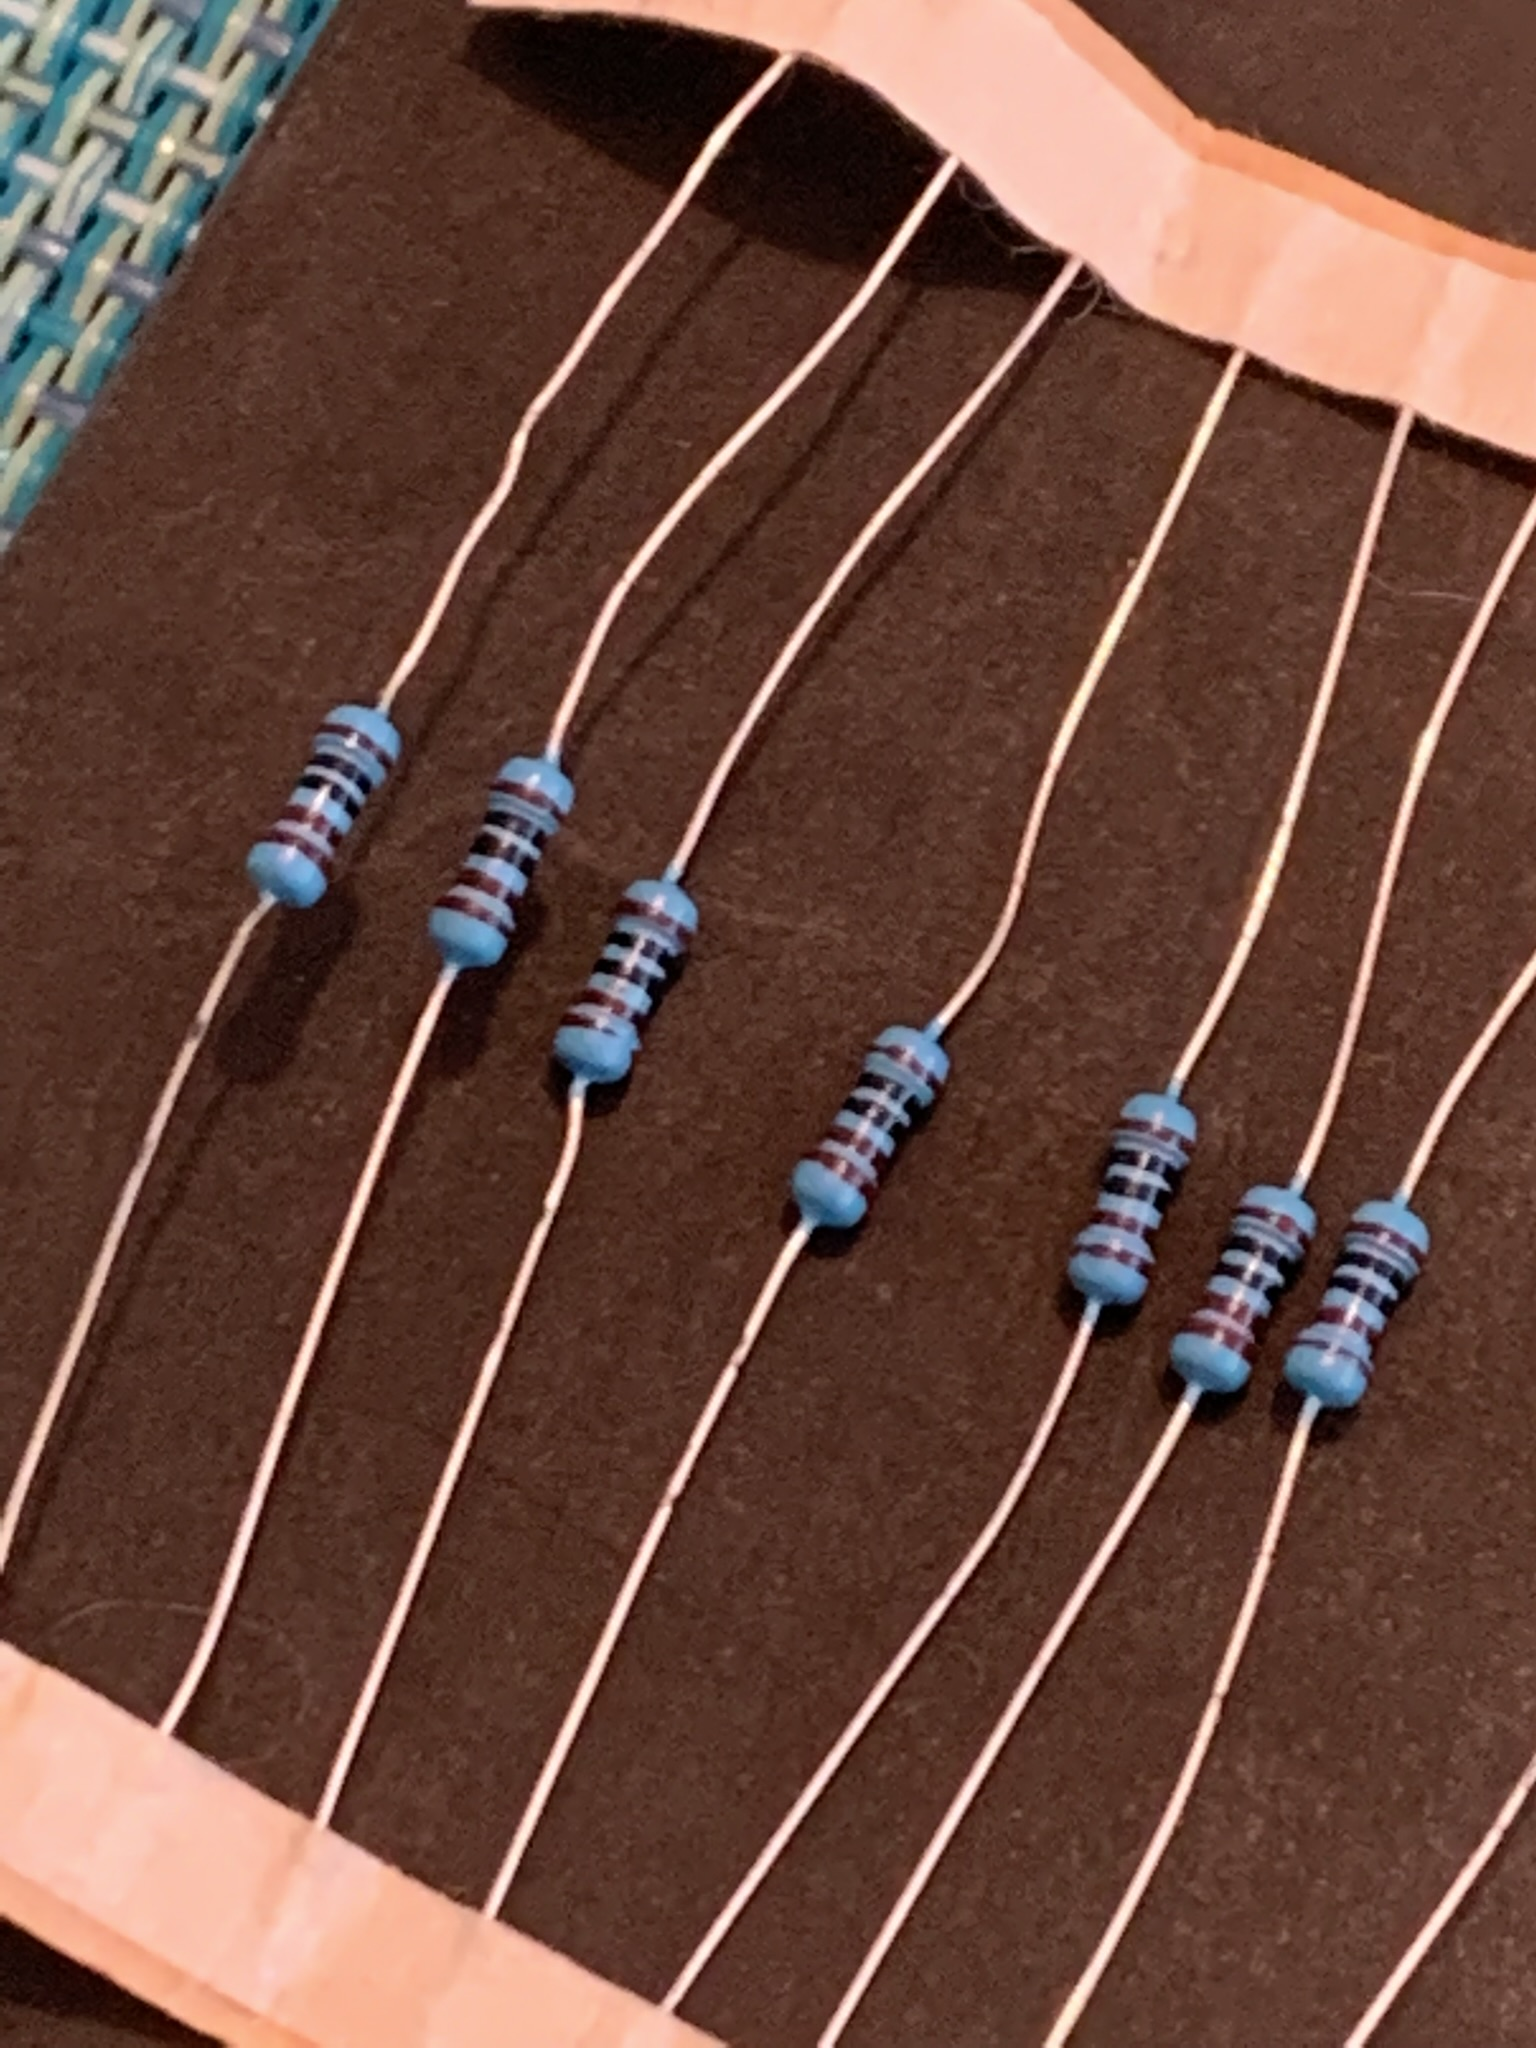resistor_thd: (791, 1024, 954, 1230), (245, 701, 403, 906), (1281, 1201, 1434, 1408), (550, 877, 699, 1089), (1171, 1185, 1321, 1393), (428, 756, 574, 963), (1065, 1093, 1197, 1305)
